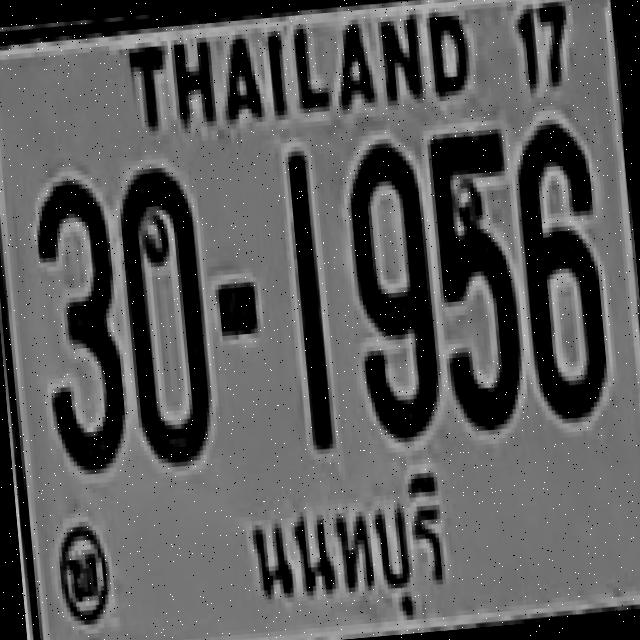0: (114, 163, 214, 467)
1: (282, 148, 334, 438)
3: (31, 175, 130, 474)
5: (426, 126, 526, 430)
6: (510, 117, 610, 420)
9: (342, 138, 439, 438)
Nonthaburi: (227, 455, 463, 637)
